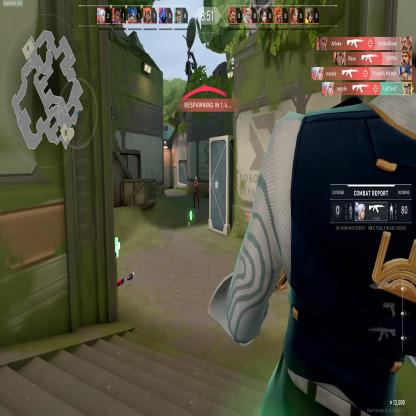enemy: (192, 174, 200, 210)
